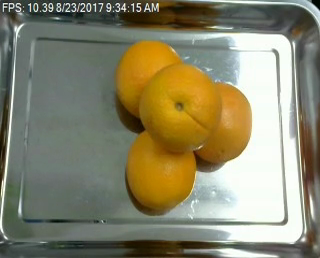Orange: (139, 63, 221, 155), (126, 129, 195, 211), (114, 40, 183, 120), (189, 81, 251, 163)
